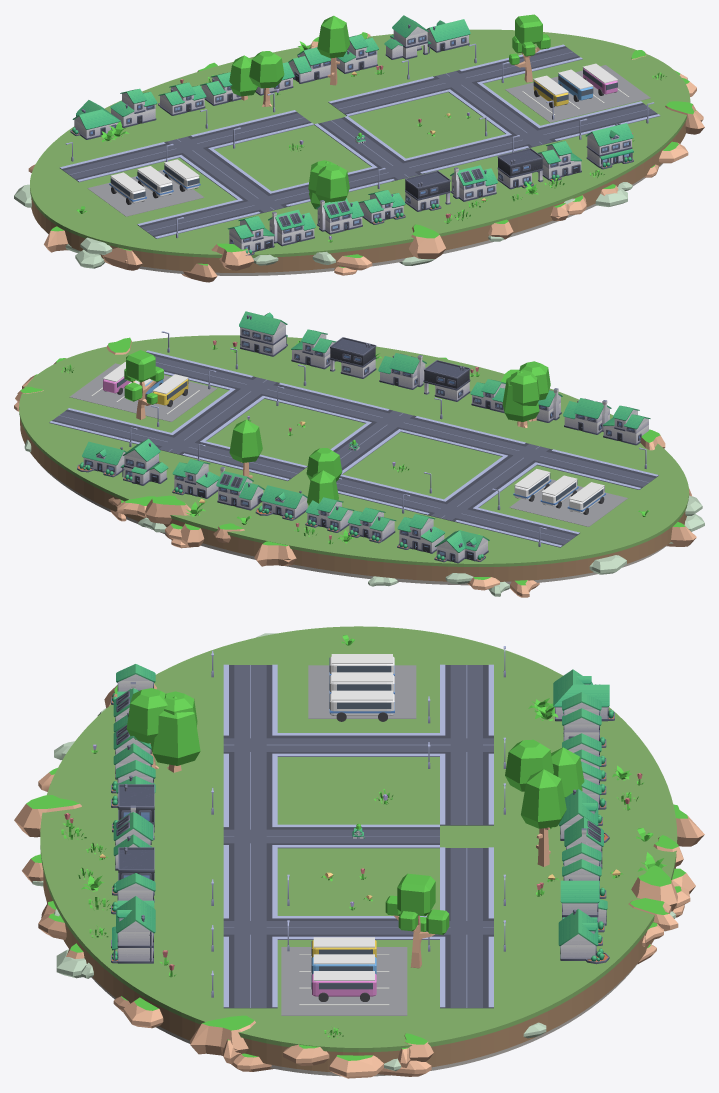
The model's file is buses.glb.
3 views of the same model, one above another, from view 1: azimuth 30°, elevation 25°; view 2: azimuth 150°, elevation 25°; view 3: azimuth 270°, elevation 25° (orthographic). The views are drawn at different scales.
Visible parts, largest first — view 1: flat-green, Cylinder, flat-lot, building-type-e.001, flat-lot.001, tree_detailed.001, building-type-p.001, building-type-p.002, building-type-s.001, building-type-j.003, building-type-j.002, building-type-j.001 (+60 smaller); view 2: flat-green, Cylinder, flat-lot, building-type-e.001, flat-lot.001, tree_detailed.001, building-type-s.001, building-type-p.001, building-type-p.002, building-type-c.003, building-type-j.004, building-type-j.003 (+58 smaller); view 3: flat-green, Cylinder, flat-lot, tree_detailed.001, building-type-e.001, tree_default.001, flat-lot.001, tree_fat.002, building-type-g.002, rock_largeB.008, tree_oak.003, building-type-c.002 (+61 smaller).
Boxes of the visible parts, x1,y1,x2,y2 form: flat-green: (30, 29, 690, 257); Cylinder: (31, 121, 685, 272); flat-lot: (505, 65, 650, 122); building-type-e.001: (585, 123, 633, 169); flat-lot.001: (87, 169, 204, 216); tree_detailed.001: (509, 14, 550, 82); building-type-p.001: (405, 170, 450, 211); building-type-p.002: (497, 148, 543, 189); building-type-s.001: (384, 15, 431, 59); building-type-j.003: (450, 165, 497, 201); building-type-j.002: (316, 198, 363, 234); building-type-j.001: (268, 209, 315, 246); flat-green: (19, 335, 689, 566); Cylinder: (20, 418, 686, 581); flat-lot: (69, 363, 217, 421); building-type-e.001: (239, 311, 287, 356); flat-lot.001: (509, 479, 627, 526); tree_detailed.001: (124, 350, 163, 419); building-type-s.001: (120, 438, 168, 485); building-type-p.001: (424, 360, 470, 401); building-type-p.002: (330, 337, 376, 378); building-type-c.003: (172, 459, 219, 498); building-type-j.004: (216, 466, 264, 510); building-type-j.003: (378, 353, 426, 389); flat-green: (40, 626, 677, 1052); Cylinder: (43, 865, 675, 1072); flat-lot: (281, 947, 407, 1015); tree_detailed.001: (385, 873, 449, 968); building-type-e.001: (111, 896, 155, 963); tree_default.001: (521, 769, 566, 866); flat-lot.001: (308, 665, 416, 718); tree_fat.002: (151, 696, 200, 772); building-type-g.002: (558, 909, 609, 964); rock_largeB.008: (190, 1015, 255, 1055); tree_oak.003: (126, 688, 167, 768); building-type-c.002: (562, 692, 606, 747).
Size of the model in its own units: 118 by 27.34 by 78.18.
Materials: 54 (11 with a texture image).
